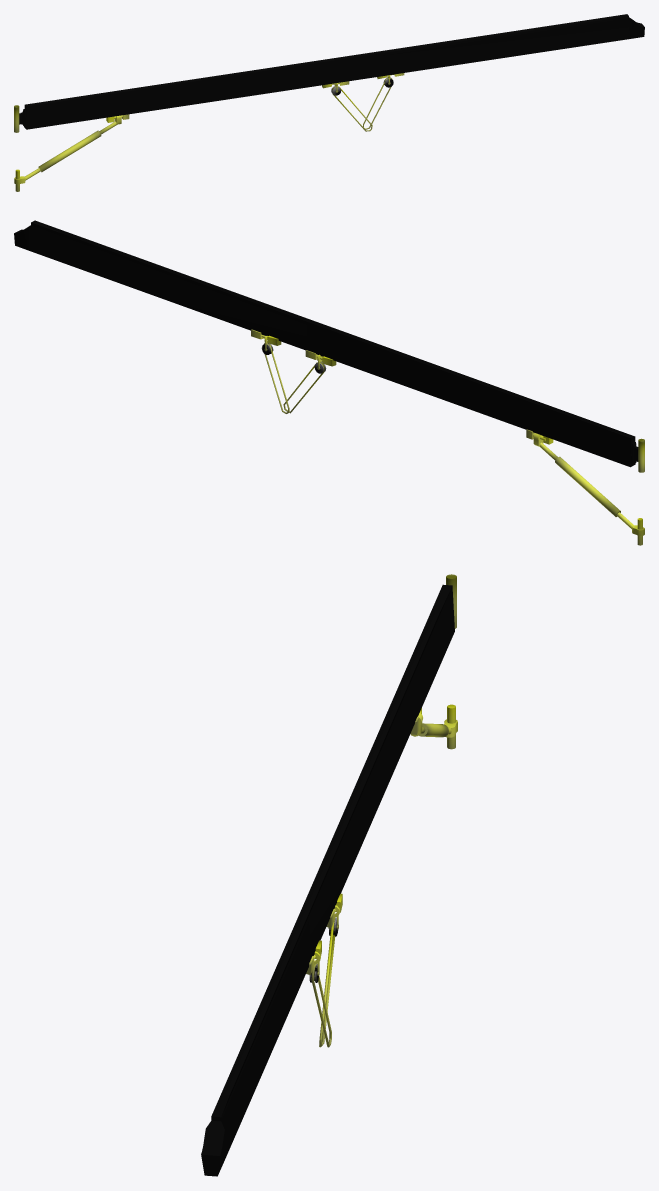
The model's file is boom_complete.fbx.
3 renders of one model, top to bottom at view 1: azimuth 30°, elevation 25°; view 2: azimuth 150°, elevation 25°; view 3: azimuth 270°, elevation 25°, orthographic. The views are drawn at different scales.
Parts seen in each view (by area): view 1: Bom_Main, Bom_Hinge, Bom_Obciagacz; view 2: Bom_Main, Bom_Hinge, Bom_Obciagacz; view 3: Bom_Main, Bom_Obciagacz, Bom_Hinge.
Part boxes in pixels (box(x1,y1,x2,y2)): Bom_Main: box(19, 14, 644, 129); Bom_Hinge: box(14, 105, 129, 191); Bom_Obciagacz: box(322, 73, 404, 131); Bom_Main: box(14, 220, 638, 467); Bom_Hinge: box(526, 429, 644, 545); Bom_Obciagacz: box(251, 329, 336, 413); Bom_Main: box(201, 584, 454, 1176); Bom_Obciagacz: box(306, 893, 342, 1047); Bom_Hinge: box(410, 574, 457, 749).
Bounding box in the file's own units: 6.99 × 0.9947 × 1.36.
